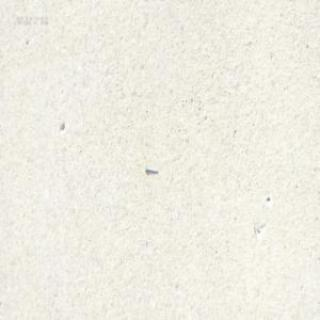Nailtrack_idkeyframe: (143, 165, 157, 172)
